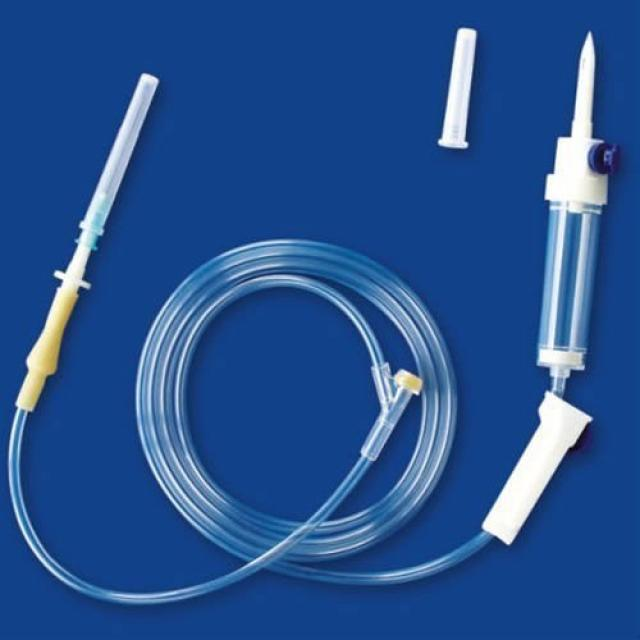B3: (16, 21, 607, 604)
